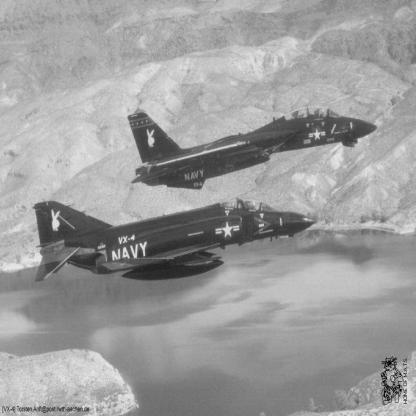F14: (128, 107, 381, 191)
F4: (33, 199, 318, 282)
